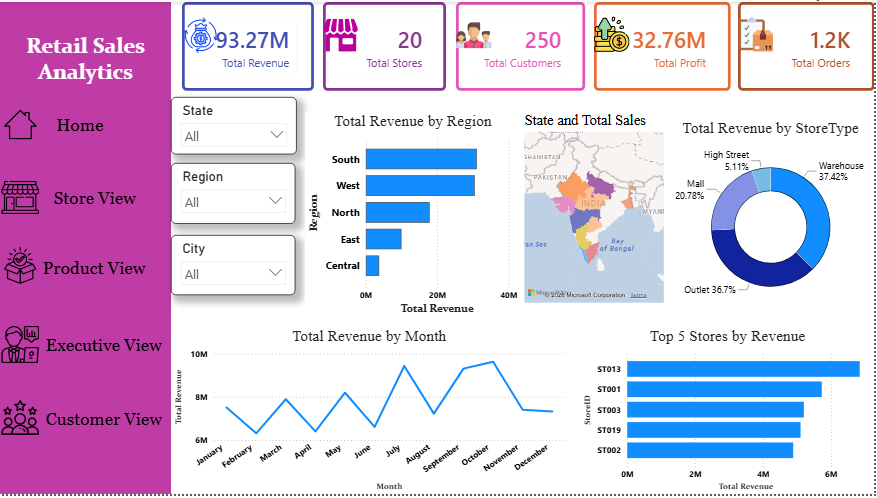

What the dashboard file says about the page in this screenshot:
{"tool":"powerbi","page":{"name":"Store","canvas":[1280,720],"ordinal":1},"visuals":[{"type":"shape","box":[0,0,250,721.4],"z":0},{"type":"actionButton","box":[17.4,13.1,215.5,139.3],"z":1000},{"type":"actionButton","box":[69.7,152.4,93.6,54.4],"z":2000},{"type":"actionButton","box":[69.7,259,137.1,54.4],"z":3000},{"type":"actionButton","box":[58.8,361.4,158.9,54.4],"z":4000},{"type":"actionButton","box":[54.4,474.6,195.9,54.4],"z":5000},{"type":"actionButton","box":[54.4,583.4,195.9,52.2],"z":6000},{"type":"image","box":[6.5,152.4,47.9,54.4],"z":7000},{"type":"image","box":[0,259,58.8,54.4],"z":8000},{"type":"image","box":[0,359.2,58.8,54.4],"z":9000},{"type":"image","box":[0,474.6,58.8,54.4],"z":10000},{"type":"image","box":[0,581.2,58.8,54.4],"z":11000},{"type":"cardVisual","fields":{"Data":["SalesTable.Total Revenue"]},"box":[266.1,0,192.9,130.4],"z":12000},{"type":"cardVisual","fields":{"Data":["Count(StoresTable.StoreID)"]},"box":[473.2,0,180.4,130.4],"z":13000},{"type":"cardVisual","fields":{"Data":["Count(CustomersTable.CustomerID)"]},"box":[667.9,0,189.3,130.4],"z":14000},{"type":"cardVisual","fields":{"Data":["Sum(SalesTable.Profit)"]},"box":[869.6,0,200,130.4],"z":15000},{"type":"cardVisual","fields":{"Data":["CountNonNull(SalesTable.OrderID)"]},"box":[1080.4,0,200,130.4],"z":16000},{"type":"slicer","fields":{"Values":["StoresTable.State"]},"box":[250,139.3,183.9,83.9],"z":17000},{"type":"slicer","fields":{"Values":["StoresTable.Region"]},"box":[250,235.7,182.1,89.3],"z":18000},{"type":"slicer","fields":{"Values":["StoresTable.City"]},"box":[250,341.1,182.1,87.5],"z":19000},{"type":"barChart","fields":{"Category":["StoresTable.Region"],"Y":["SalesTable.Total Revenue"]},"box":[446.4,160.7,316.1,301.8],"z":20000},{"type":"donutChart","fields":{"Y":["SalesTable.Total Revenue"],"Category":["StoresTable.StoreType"]},"box":[976.8,171.4,303.6,291.1],"z":21000},{"type":"filledMap","fields":{"Category":["StoresTable.State"],"Series":["SalesTable.Total Sales"]},"box":[762.5,160.7,214.3,283.9],"z":22000},{"type":"lineChart","fields":{"Y":["SalesTable.Total Revenue"],"Category":["Date.Date.Variation.Date Hierarchy.Month"]},"box":[250,475,580.4,244.6],"z":23000},{"type":"barChart","title":"Top 5 Stores by Revenue ","fields":{"Category":["StoresTable.StoreID"],"Y":["SalesTable.Total Revenue"]},"box":[848.2,475,432.1,244.6],"z":24000},{"type":"image","box":[267.9,14.3,51.8,67.9],"z":25000},{"type":"image","box":[473.2,14.3,51.8,67.9],"z":26000},{"type":"image","box":[1080.4,12.5,51.8,67.9],"z":27000},{"type":"image","box":[869.6,12.5,51.8,67.9],"z":28000},{"type":"image","box":[667.9,14.3,51.8,67.9],"z":29000}]}

Visuals, with their boxes in screenshot pixels (x1, y1, x2, y2), scaled from the page's 1280x720 canvas onto the 877x498 screenshot:
shape: BBox(0, 0, 171, 497)
actionButton: BBox(12, 9, 160, 105)
actionButton: BBox(48, 105, 112, 143)
actionButton: BBox(48, 179, 142, 217)
actionButton: BBox(40, 250, 149, 288)
actionButton: BBox(37, 328, 171, 366)
actionButton: BBox(37, 404, 171, 440)
image: BBox(4, 105, 37, 143)
image: BBox(0, 179, 40, 217)
image: BBox(0, 248, 40, 286)
image: BBox(0, 328, 40, 366)
image: BBox(0, 402, 40, 440)
cardVisual - SalesTable.Total Revenue: BBox(182, 0, 314, 90)
cardVisual - Count(StoresTable.StoreID): BBox(324, 0, 448, 90)
cardVisual - Count(CustomersTable.CustomerID): BBox(458, 0, 587, 90)
cardVisual - Sum(SalesTable.Profit): BBox(596, 0, 733, 90)
cardVisual - CountNonNull(SalesTable.OrderID): BBox(740, 0, 876, 90)
slicer - StoresTable.State: BBox(171, 96, 297, 154)
slicer - StoresTable.Region: BBox(171, 163, 296, 225)
slicer - StoresTable.City: BBox(171, 236, 296, 296)
barChart - StoresTable.Region x SalesTable.Total Revenue: BBox(306, 111, 522, 320)
donutChart - SalesTable.Total Revenue x StoresTable.StoreType: BBox(669, 119, 876, 320)
filledMap - StoresTable.State x SalesTable.Total Sales: BBox(522, 111, 669, 308)
lineChart - SalesTable.Total Revenue x Date.Date.Variation.Date Hierarchy.Month: BBox(171, 329, 569, 497)
"Top 5 Stores by Revenue " barChart: BBox(581, 329, 876, 497)
image: BBox(184, 10, 219, 57)
image: BBox(324, 10, 360, 57)
image: BBox(740, 9, 776, 56)
image: BBox(596, 9, 631, 56)
image: BBox(458, 10, 493, 57)
